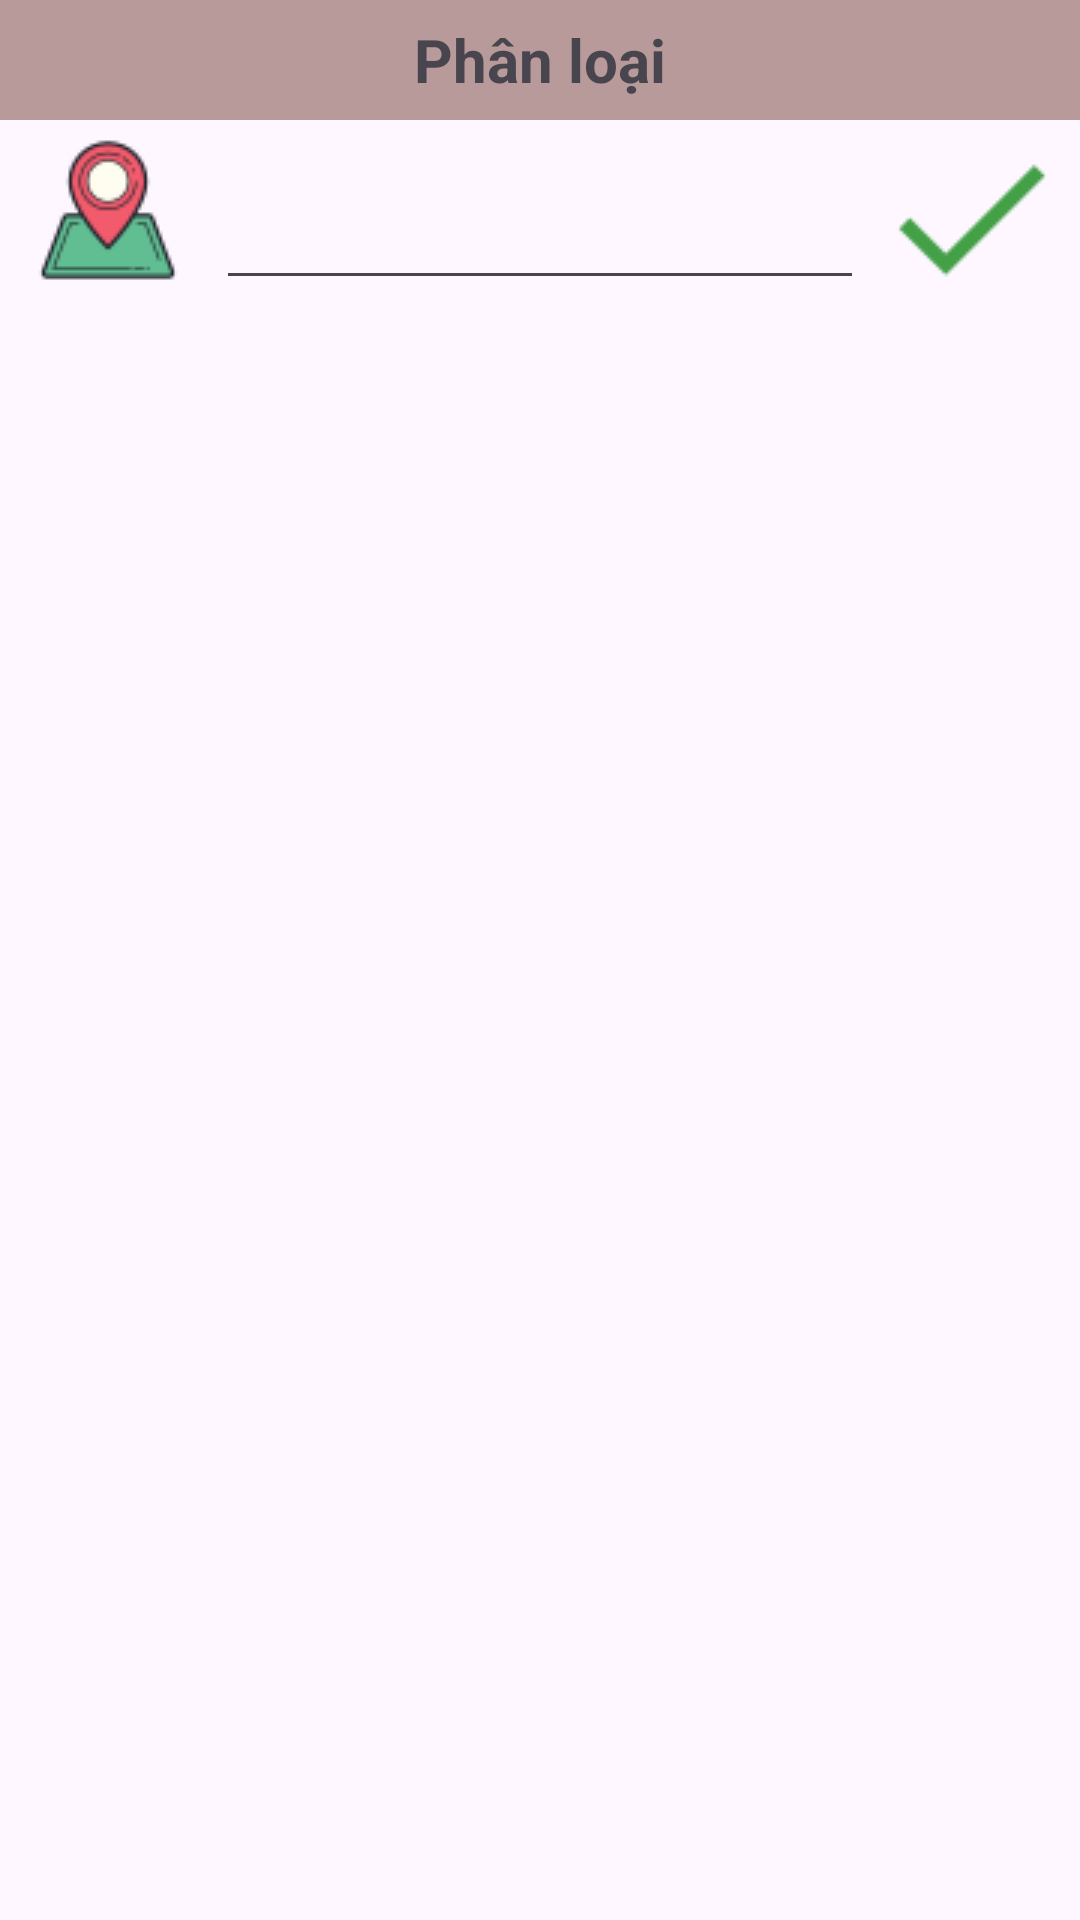

Screen size 1080x1920. Icon name, then its center in pixels as [x,y]:
address: [108,210]
select: [972,220]
